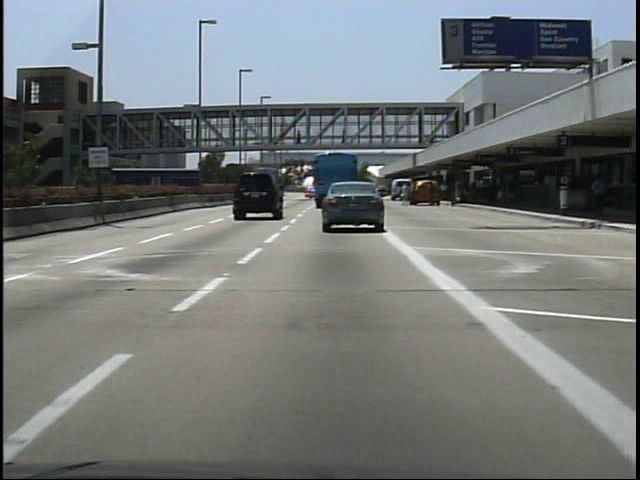person: (589, 171, 609, 217), (426, 178, 443, 211), (396, 180, 414, 209), (338, 128, 351, 152), (293, 125, 307, 146)
